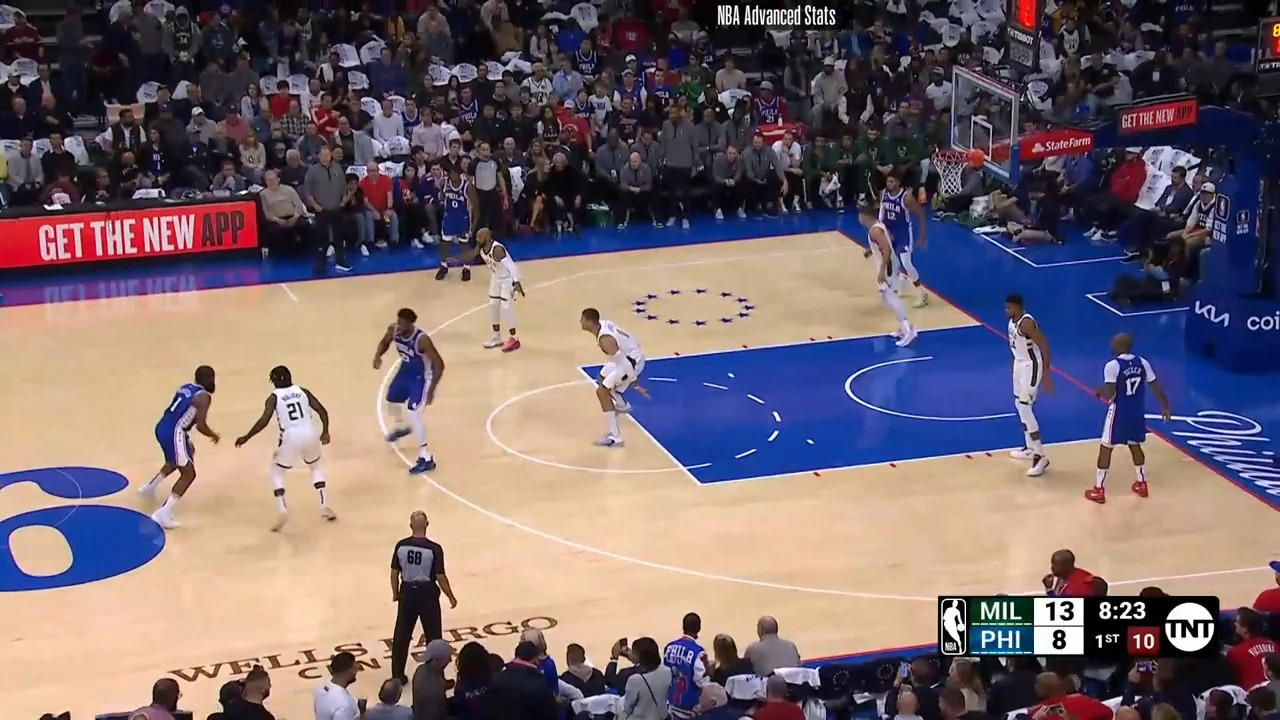net: (931, 144, 988, 198)
player: (236, 361, 336, 534), (1087, 328, 1174, 504), (370, 307, 452, 485), (142, 362, 226, 535), (989, 292, 1055, 480), (568, 306, 647, 462), (847, 200, 925, 346), (472, 230, 530, 359), (876, 171, 929, 299), (429, 160, 481, 284)
referee: (386, 512, 462, 683)
